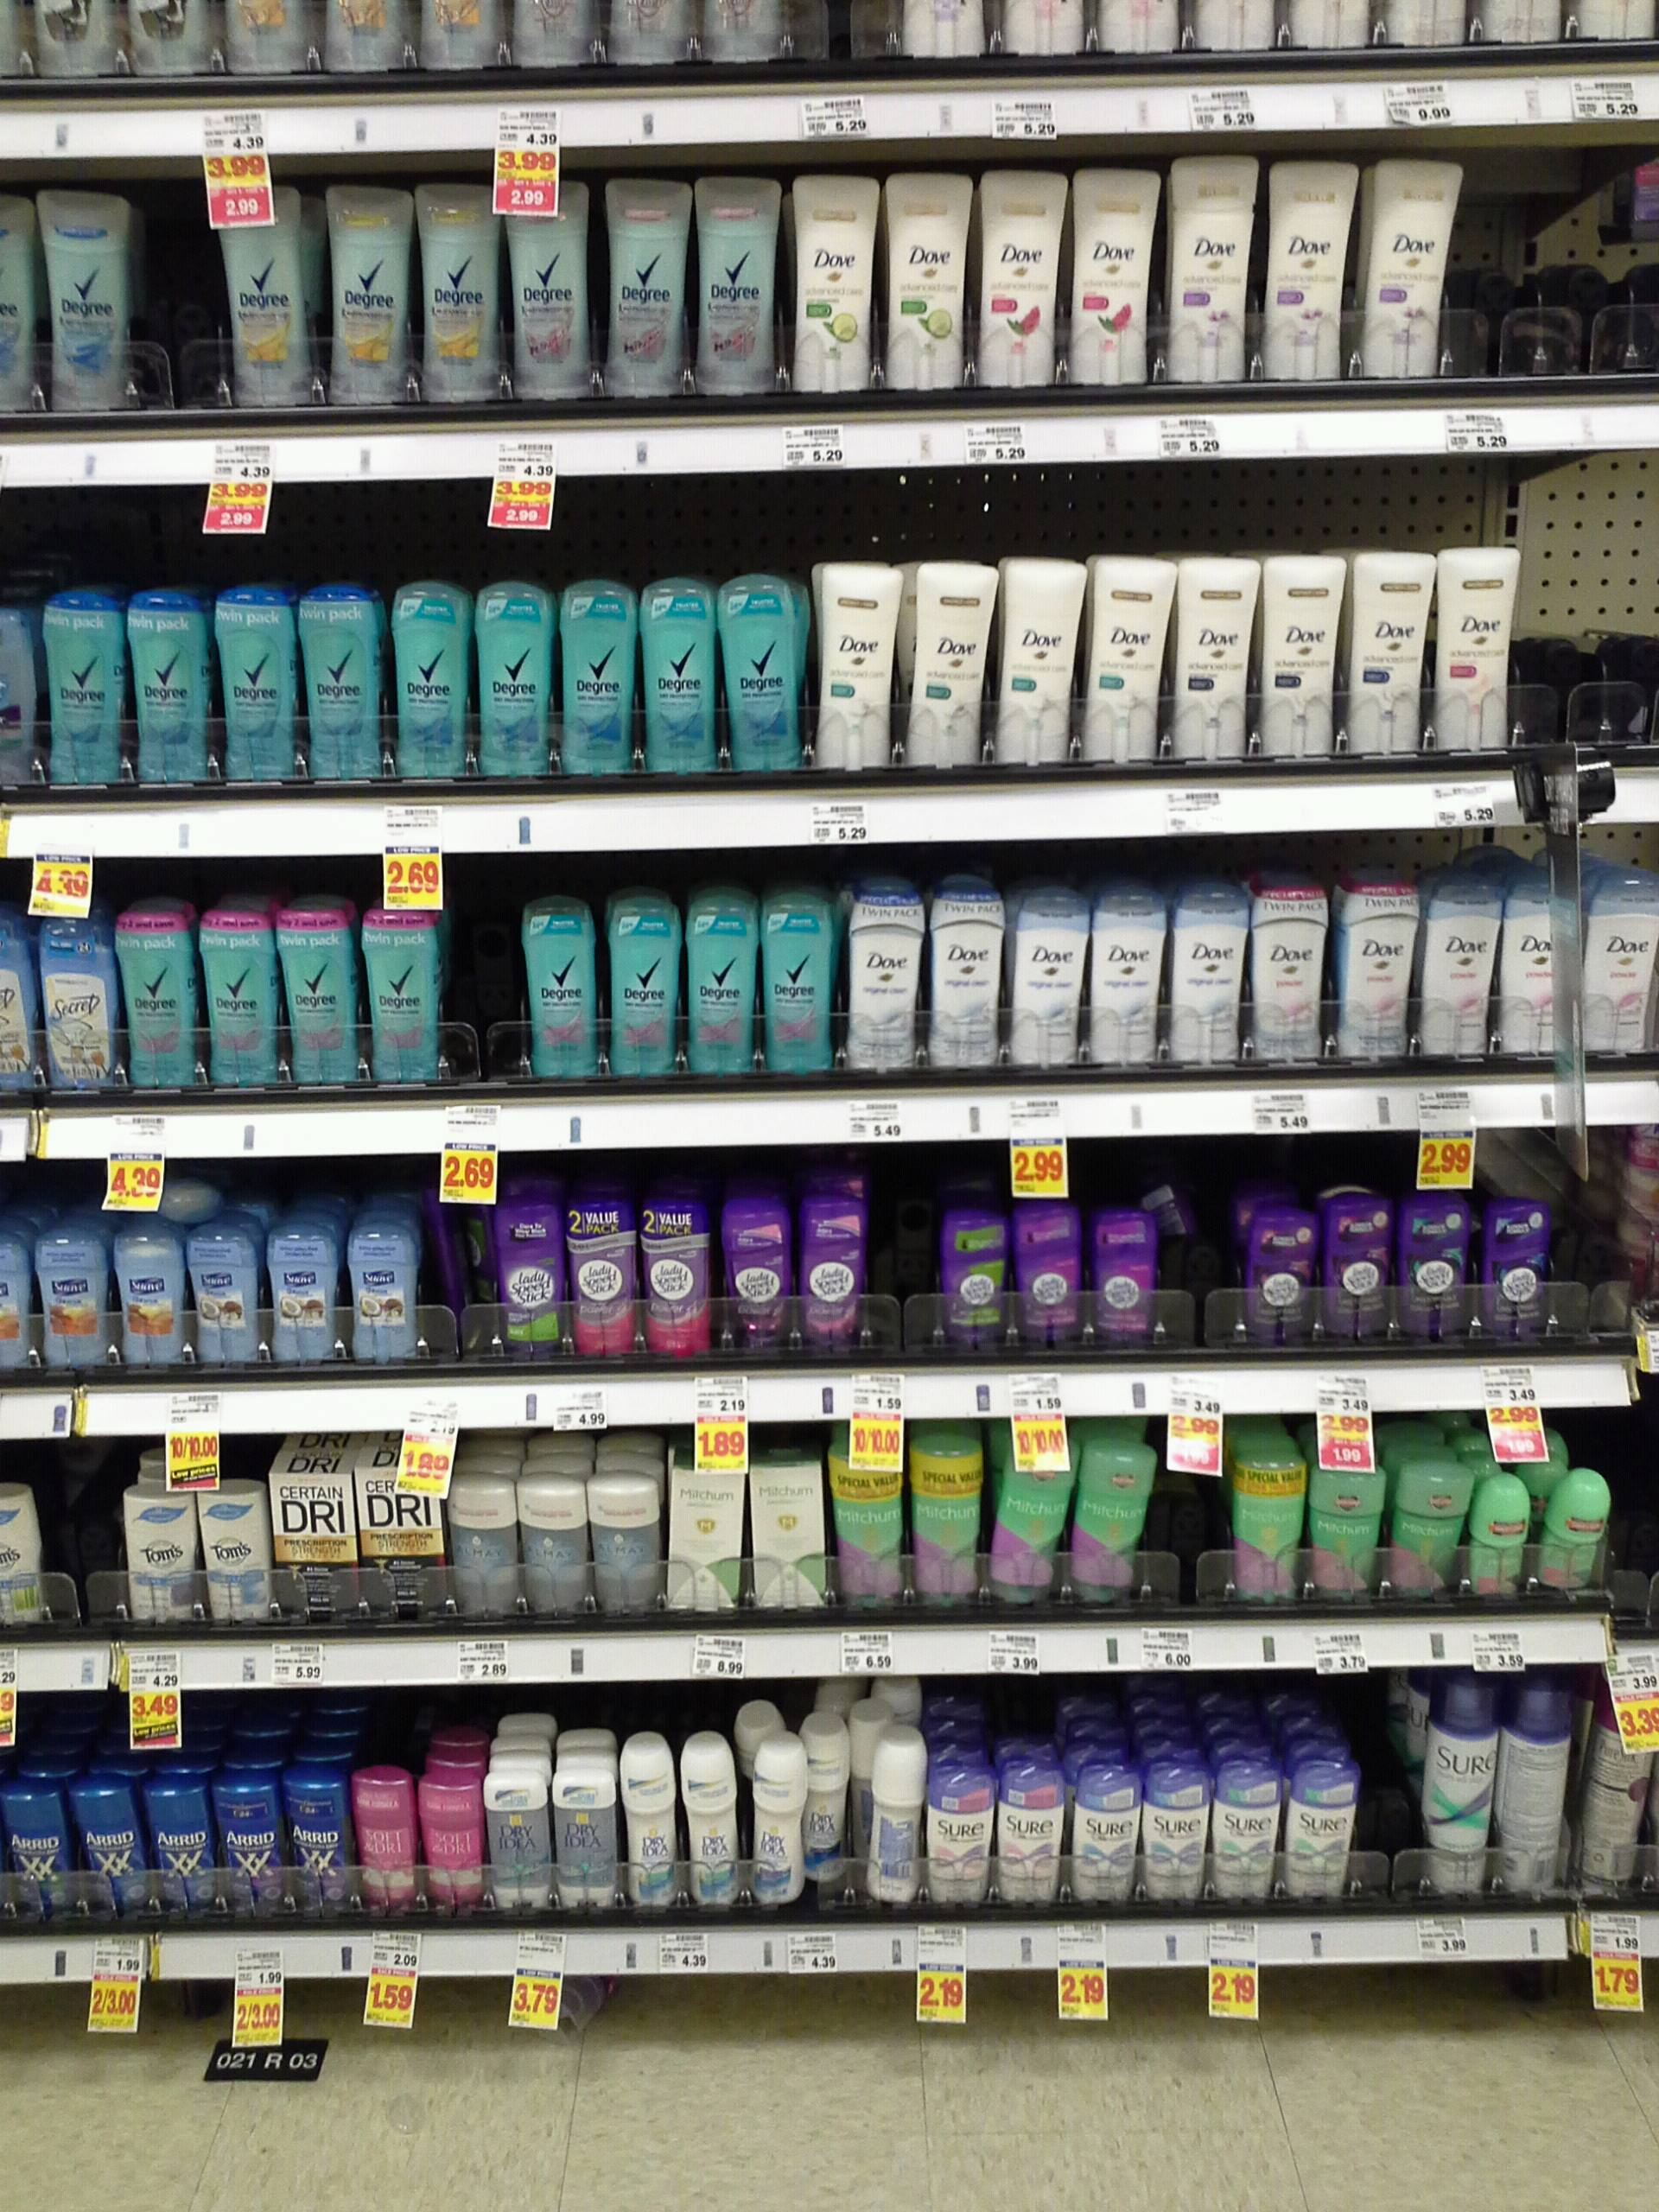Out-of-stock: (1354, 1670, 1425, 1912)
